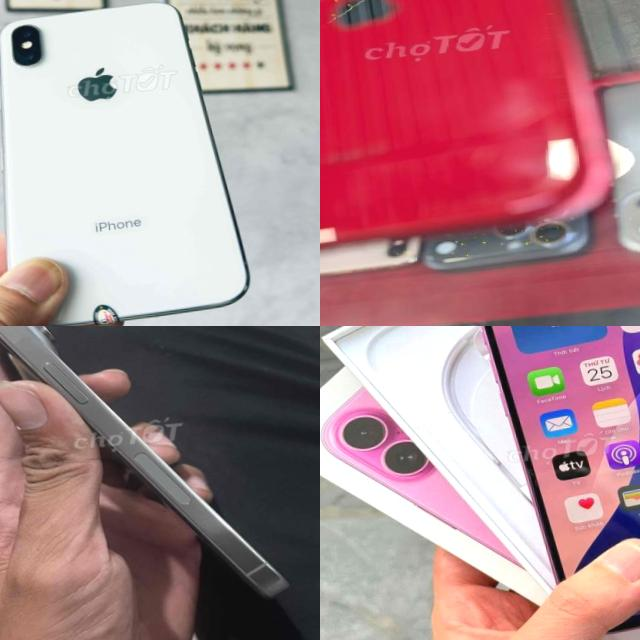gen_11: (320, 0, 612, 267)
gen_15: (0, 326, 320, 640)
gen_16: (451, 326, 640, 640)
gen_x_xs: (0, 0, 273, 326)
